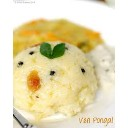venpongal: (15, 45, 97, 114)
